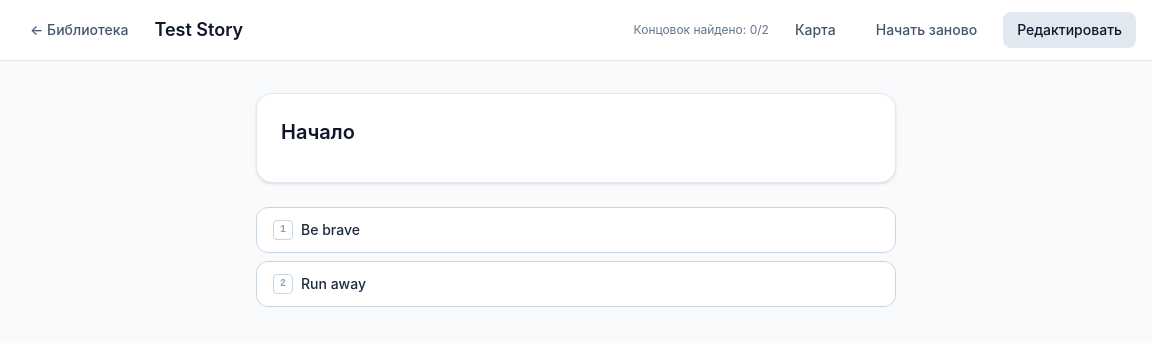
it: PlayerScreen › navigates to the target node when a choice is clicked and records history
Click the button "1 Be brave".
click(330, 230)  # box [256, 207, 896, 253]
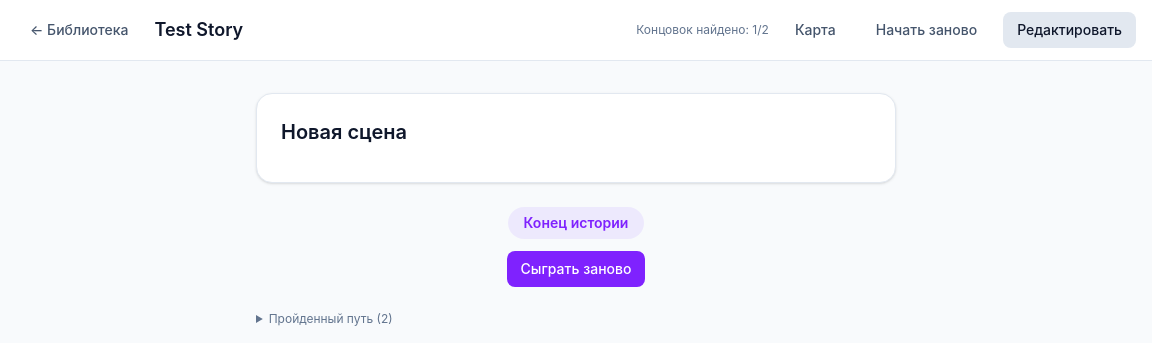
Expected: the heading "Новая сцена" is shown, [281, 120, 407, 144]
Expected: the heading "Пройденный путь (2)" is shown, [269, 311, 393, 326]
